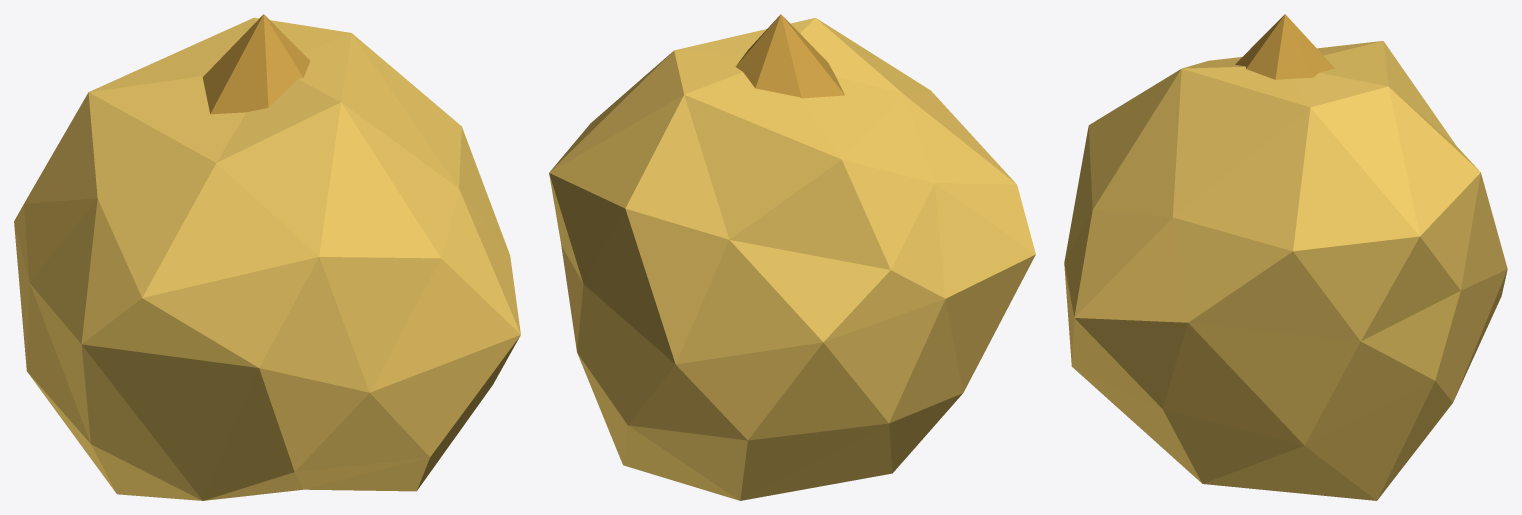
Rendered from haystack.glb.
3 renders of one model, left to right at view 1: azimuth 30°, elevation 25°; view 2: azimuth 150°, elevation 25°; view 3: azimuth 270°, elevation 25°, orthographic. The views are drawn at different scales.
Visible parts, largest first — view 1: haystack; view 2: haystack; view 3: haystack.
Boxes of the visible parts, x1=… form: haystack: x1=14, y1=14, x2=520, y2=500; haystack: x1=549, y1=14, x2=1035, y2=500; haystack: x1=1064, y1=14, x2=1507, y2=500.
Bounding box in the file's own units: 2.3 × 2.46 × 2.27.
